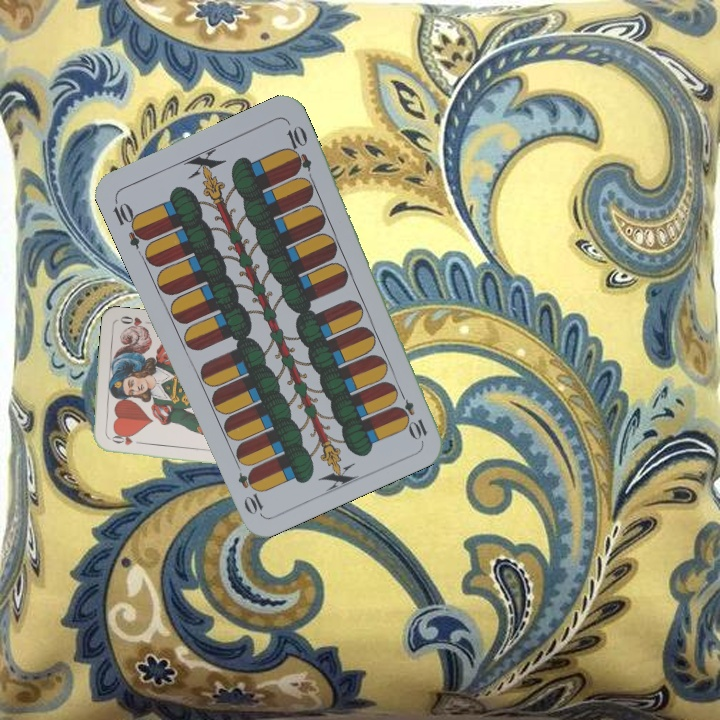E10: (109, 195, 150, 251), (393, 385, 430, 442)
HO: (104, 431, 144, 448)
